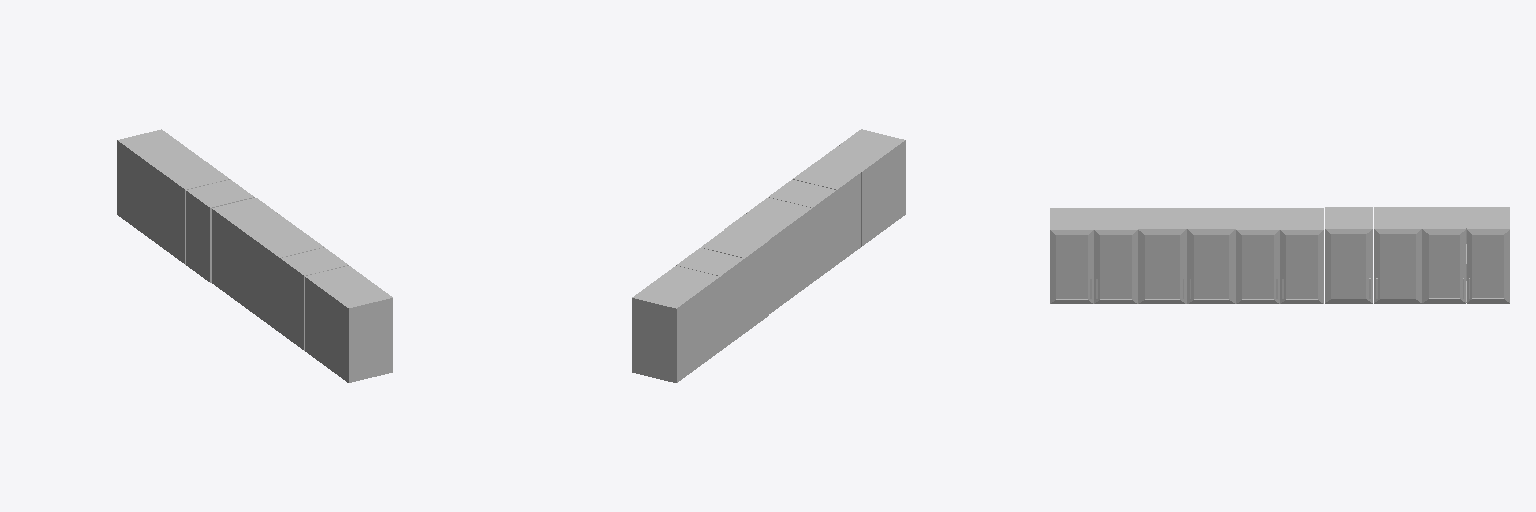
Rendered from left_ec.obj.
The picture shows the model from 3 angles: view 1: azimuth 30°, elevation 25°; view 2: azimuth 150°, elevation 25°; view 3: azimuth 270°, elevation 25°; orthographic projection.
Parts seen in each view (by area): view 1: Cupboard_Upper_04_cupboard.007; view 2: Cupboard_Upper_04_cupboard.007; view 3: Cupboard_Upper_04_cupboard.007.
Boxes of the visible parts, <box> form: Cupboard_Upper_04_cupboard.007: <box>117,129,392,382</box>; Cupboard_Upper_04_cupboard.007: <box>632,129,905,382</box>; Cupboard_Upper_04_cupboard.007: <box>1050,207,1509,303</box>.
Bounding box in the file's own units: 170 × 257 × 1429.